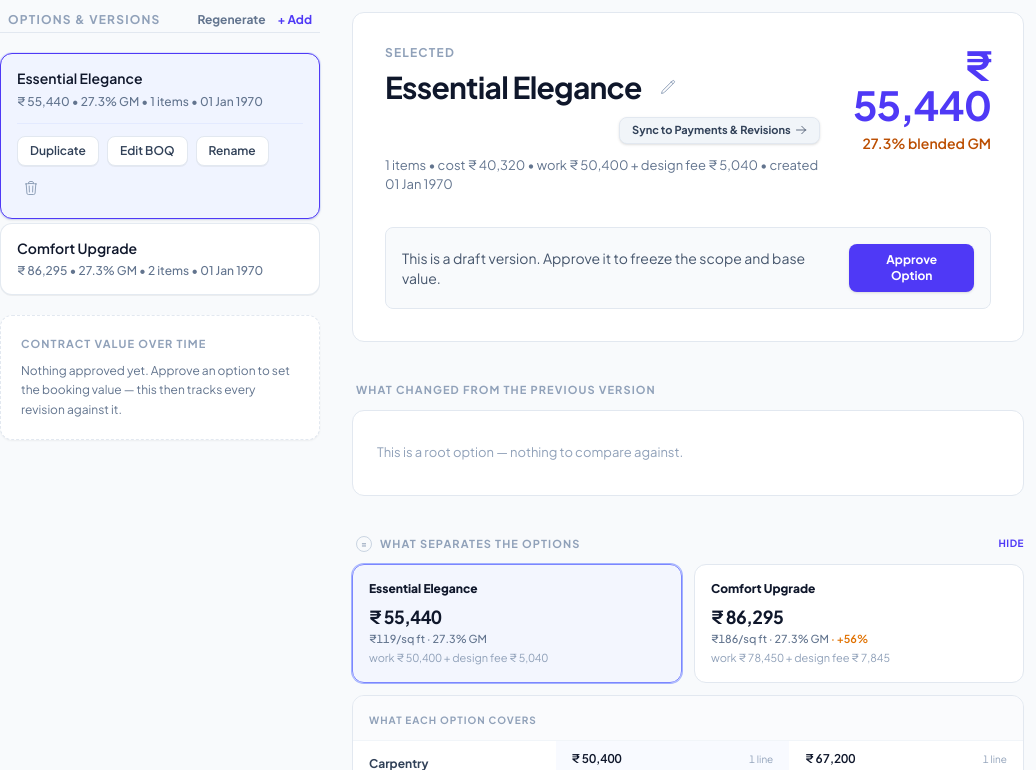
Pricing & Tiers: renaming an option › the pencil by the heading renames it, and an approved option can be renamed
The width and height of the screenshot is (1036, 770).
Step 1. Click the button "Approve Option" → x=912, y=268, box [850, 244, 974, 292]
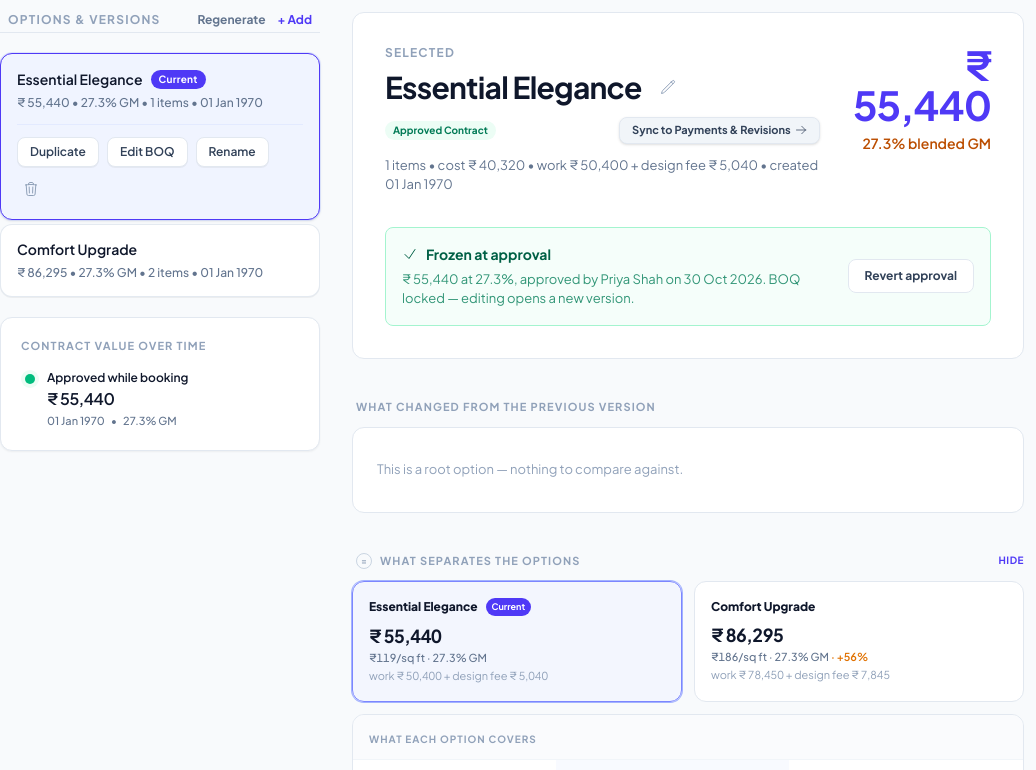
Step 2. Click the button named "Rename option" → x=668, y=87, box [654, 73, 682, 101]
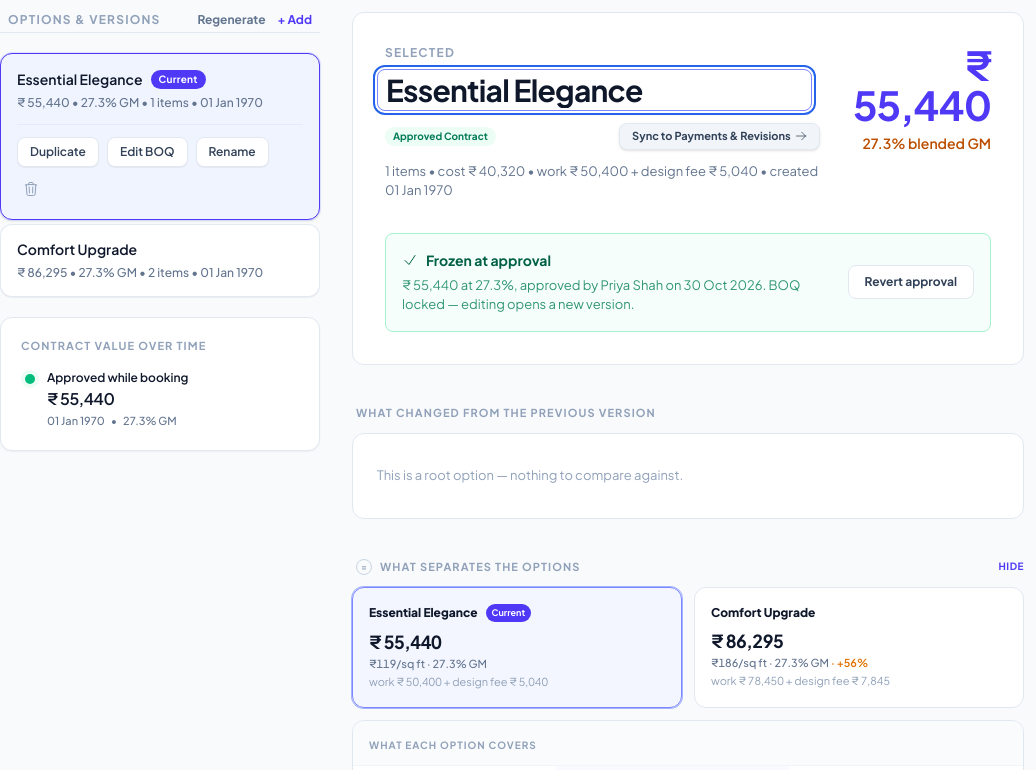
Step 3. Replace the text in the field named "Option name" with "Comfort Final" → x=594, y=90, box [377, 69, 812, 111]
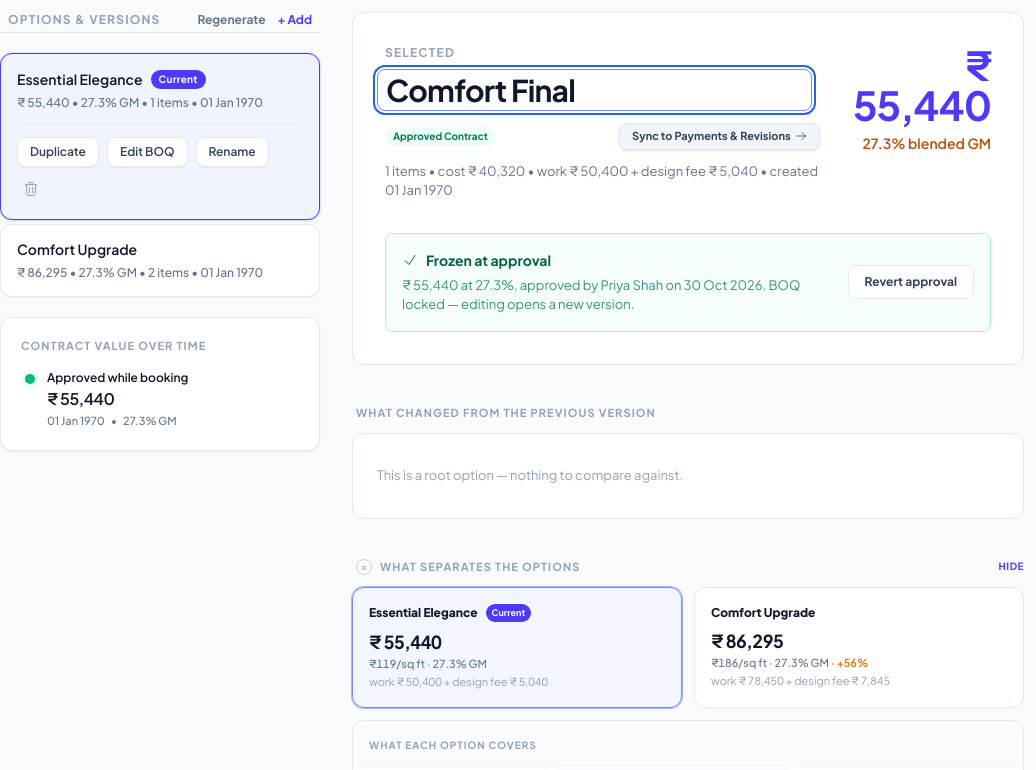
Step 4. Leave the field named "Option name", box [377, 69, 812, 111]
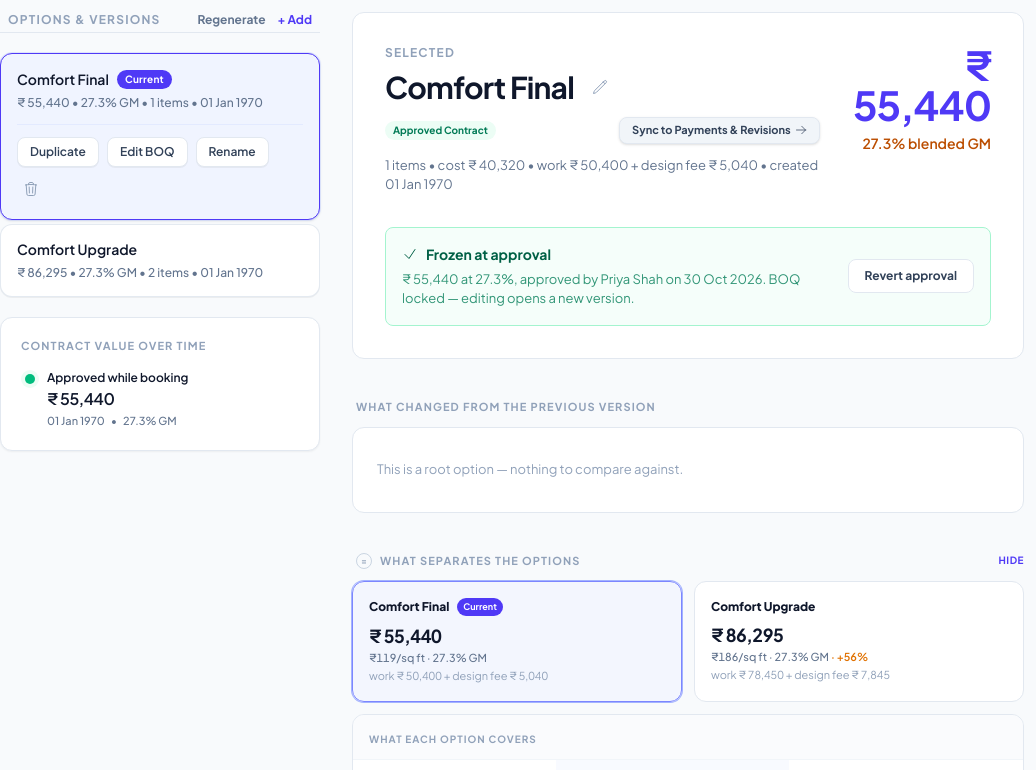
Result: the 1st text "Comfort Final" is shown at [17, 71, 109, 88]
